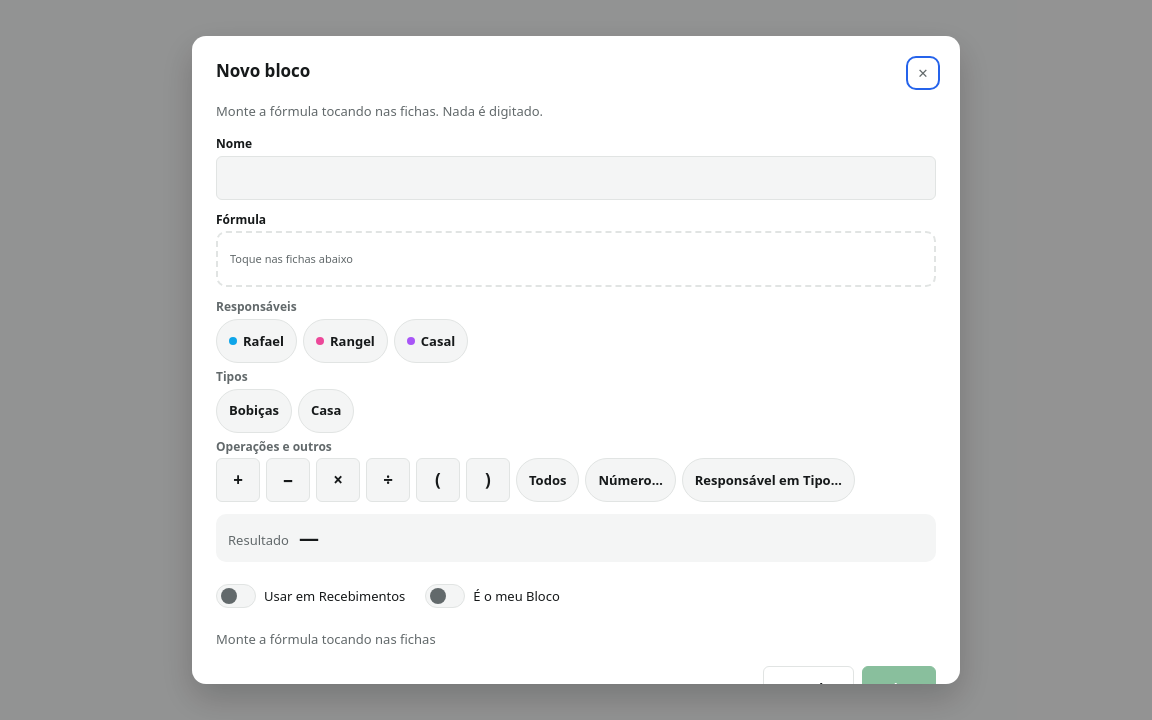
Montador de Bloco › A fórmula termina com uma operação
What coordinates should you click on to do the following:
click the button "Casal"
I would click on:
 (431, 341)
Its box is x1=394 y1=319 x2=468 y2=363.
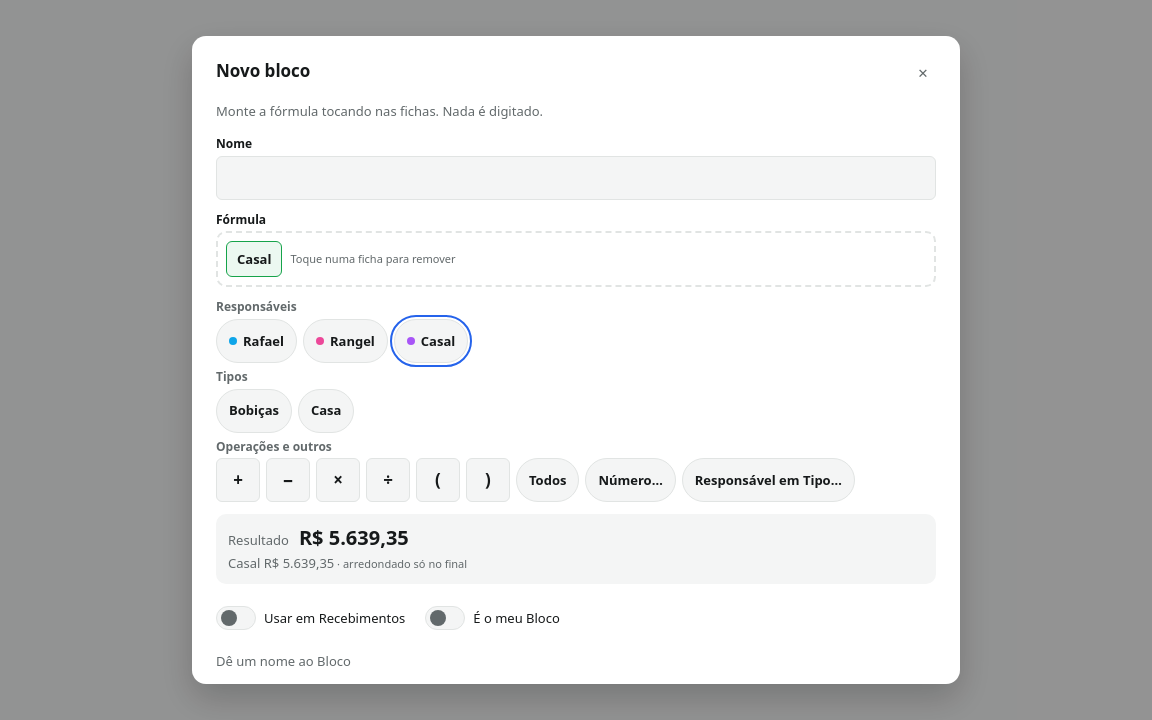
What coordinates should you click on to do the following:
click the button named "Somar"
I would click on:
 (238, 480)
Its box is x1=216 y1=458 x2=260 y2=502.
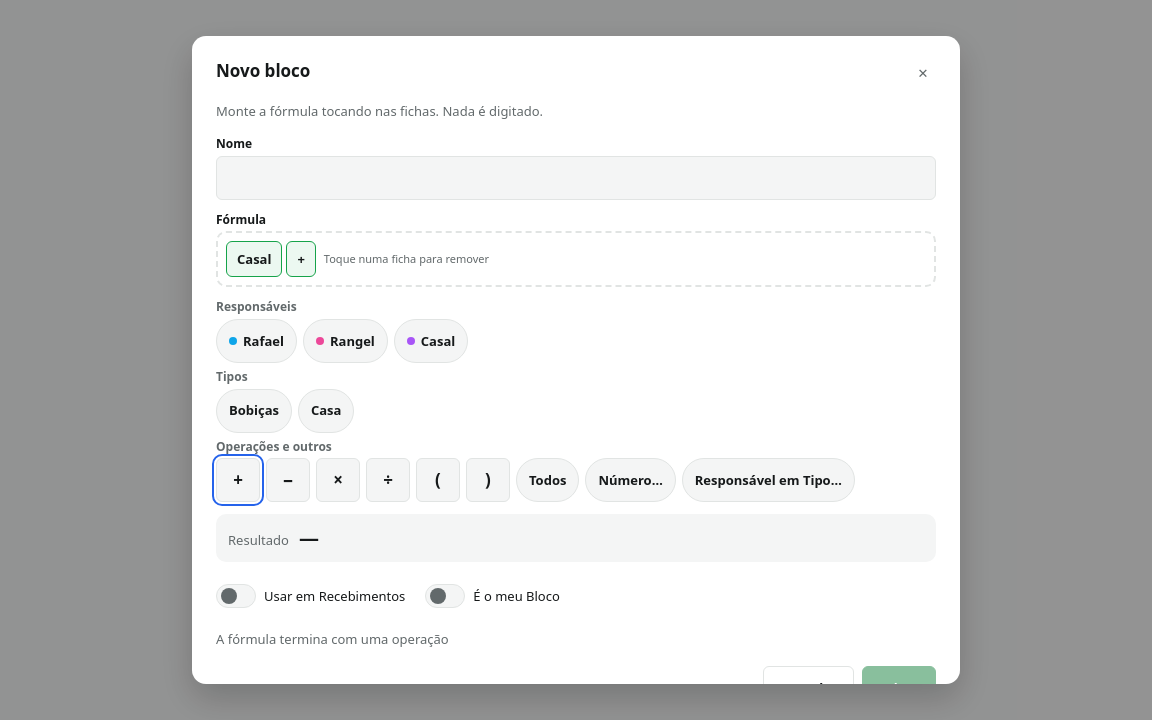
Result: the message reads "A fórmula termina com uma operação" at x1=216 y1=630 x2=449 y2=648
